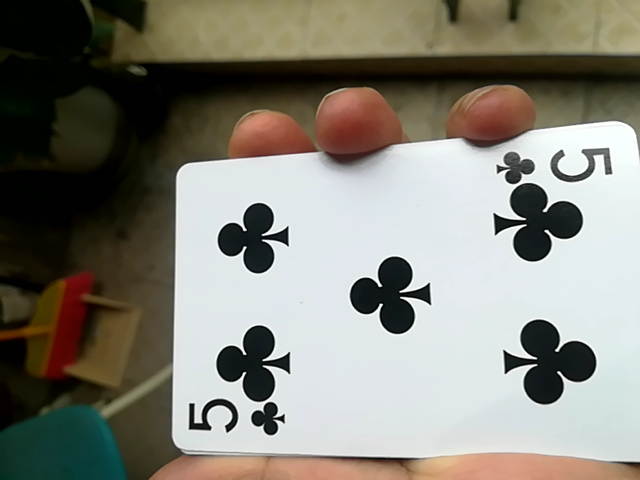mh 5: (157, 133, 635, 463)
